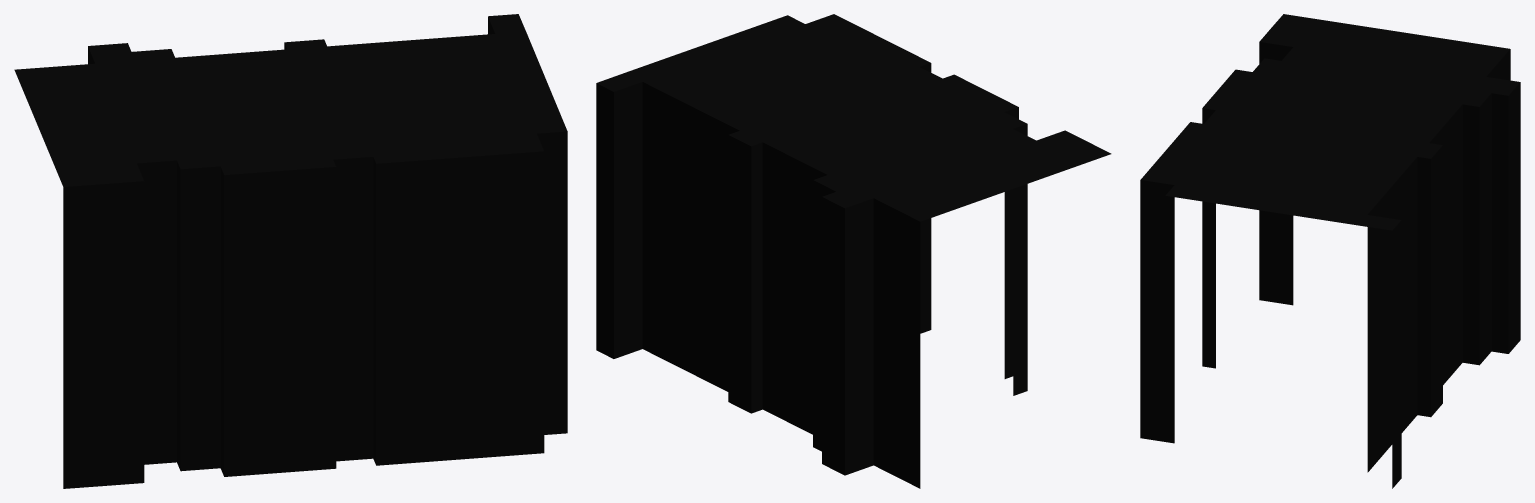
3 views of the same model, side by side, from view 1: azimuth 30°, elevation 25°; view 2: azimuth 150°, elevation 25°; view 3: azimuth 270°, elevation 25° (orthographic). The views are drawn at different scales.
Parts seen in each view (by area): view 1: Joint_0_Object_0; view 2: Joint_0_Object_0; view 3: Joint_0_Object_0.
Boxes of the visible parts, <box> form: Joint_0_Object_0: <box>14,14,567,488</box>; Joint_0_Object_0: <box>596,14,1111,488</box>; Joint_0_Object_0: <box>1140,14,1520,488</box>.
Bounding box in the file's own units: 770 × 428 × 571.
Materials: 1 (1 with a texture image).
